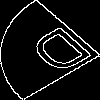D: (25, 25, 100, 83)
